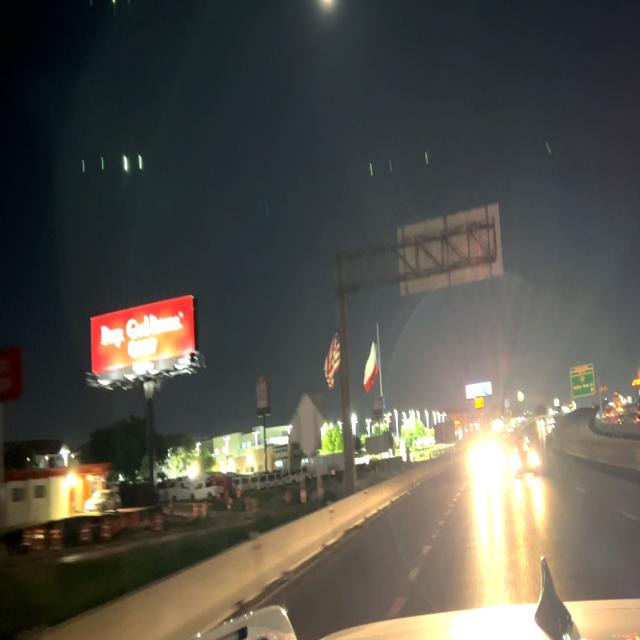back-of-sign: (394, 200, 507, 299), (288, 391, 325, 460)
